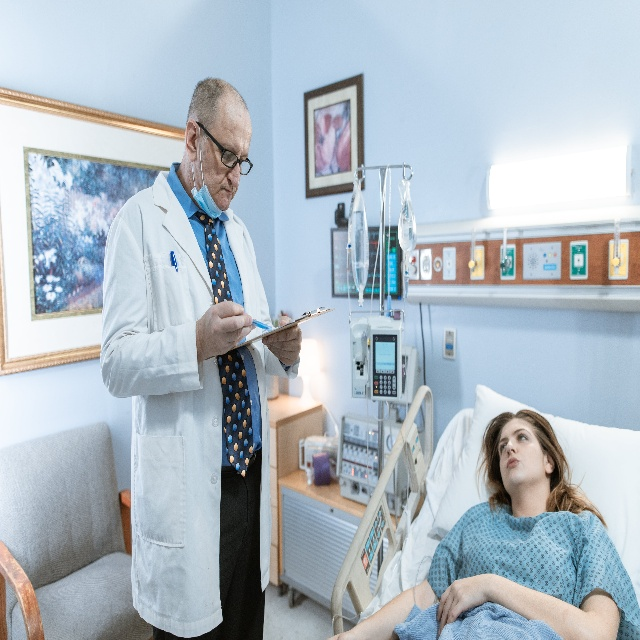Gafas: (195, 121, 252, 177)
Sin_guantes: (437, 574, 491, 635), (201, 302, 257, 358), (261, 314, 303, 370)
